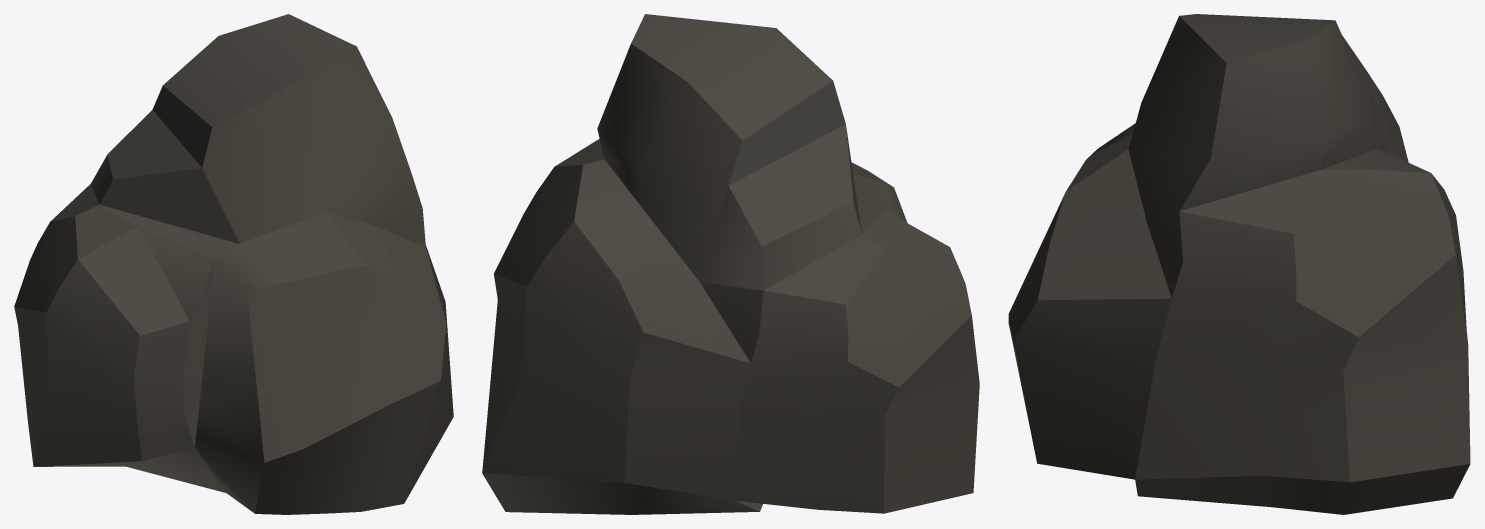
File: Rock_2.obj
3 renders of one model, left to right at view 1: azimuth 30°, elevation 25°; view 2: azimuth 150°, elevation 25°; view 3: azimuth 270°, elevation 25°, orthographic. The views are drawn at different scales.
Parts seen in each view (by area): view 1: Rock_2_Cube.023; view 2: Rock_2_Cube.023; view 3: Rock_2_Cube.023.
Boxes of the visible parts, x1,y1,x2,y2 form: Rock_2_Cube.023: [14, 14, 453, 514]; Rock_2_Cube.023: [482, 14, 979, 514]; Rock_2_Cube.023: [1008, 14, 1470, 514].
Size of the model in its own units: 2.74 by 2.71 by 2.52.
Materials: 1 (1 with a texture image).
